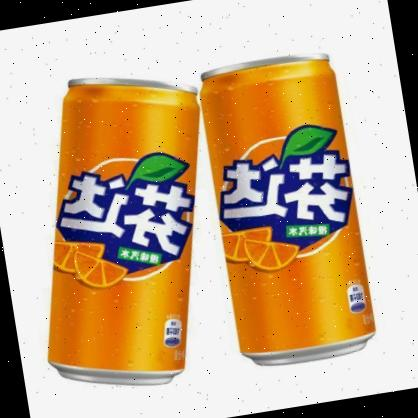can: (5, 56, 242, 401), (195, 48, 382, 370)
